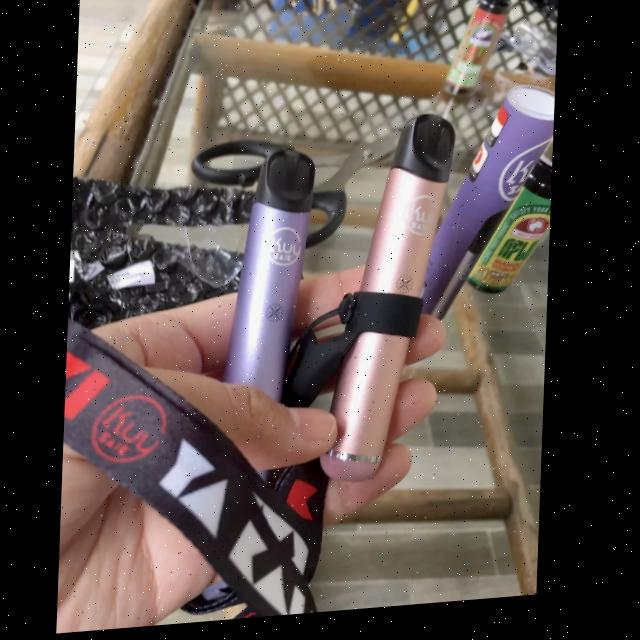vape: (323, 119, 454, 490), (231, 152, 316, 403)
